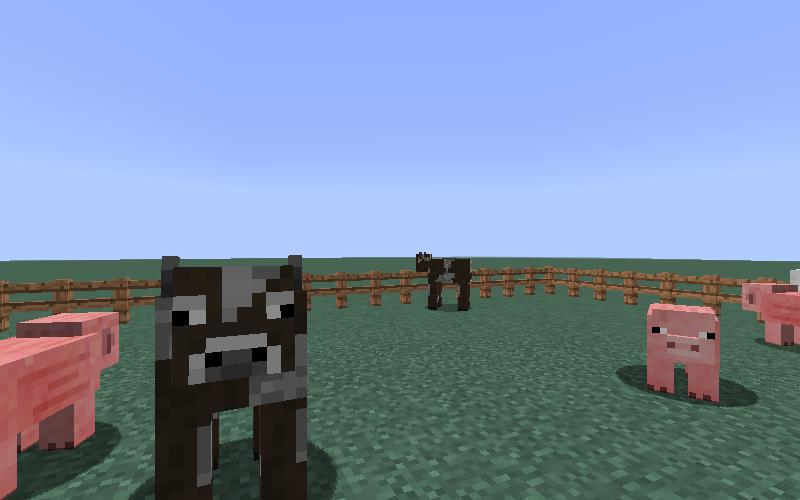cow: (149, 247, 312, 500), (413, 247, 475, 318)
pig: (1, 301, 125, 500), (637, 300, 727, 407), (742, 281, 800, 346)
